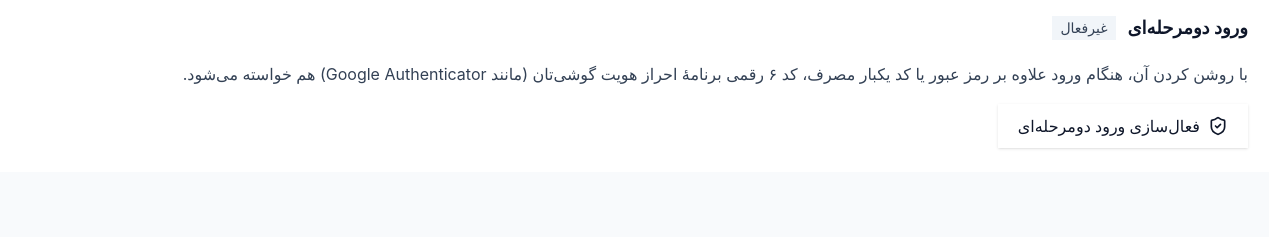
TwoFactorSection › reads the status again when it was stale (auth_already_verified on setup)
Click the button "فعال‌سازی ورود دومرحله‌ای" at (1123, 126), box [998,104,1248,148]
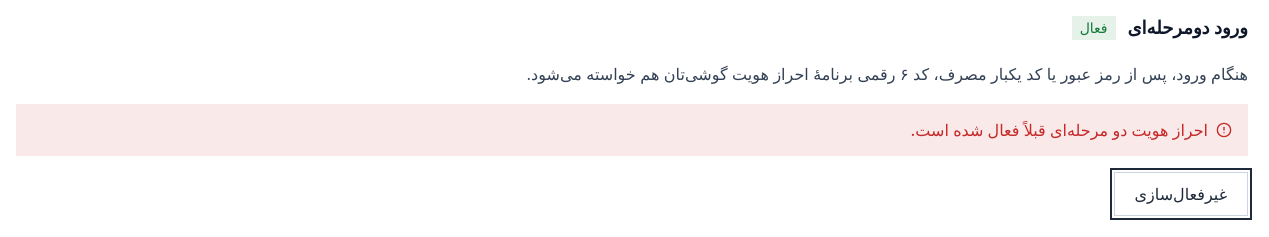
expect the message shows "قبلاً فعال شده است": met, box [910,120,1208,140]
expect the button "غیرفعال‌سازی" is shown: met, box [1114,172,1248,216]
